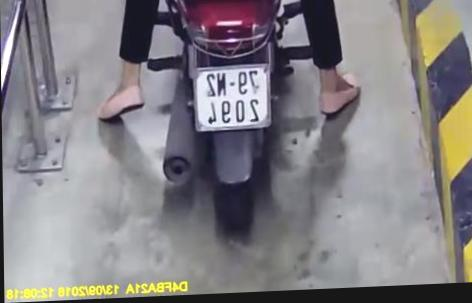License_Plate: (187, 60, 280, 138)
